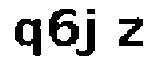6: (46, 4, 79, 48)
j: (80, 6, 103, 60)
q: (12, 17, 46, 60)
z: (114, 16, 146, 51)
